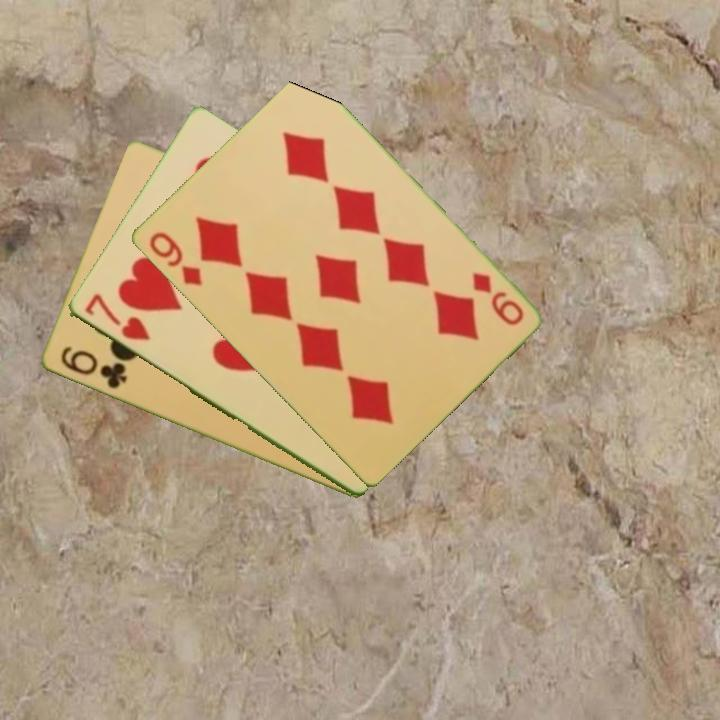6c: (56, 343, 130, 392)
7h: (80, 290, 153, 344)
9d: (144, 228, 205, 289), (468, 268, 526, 329)
